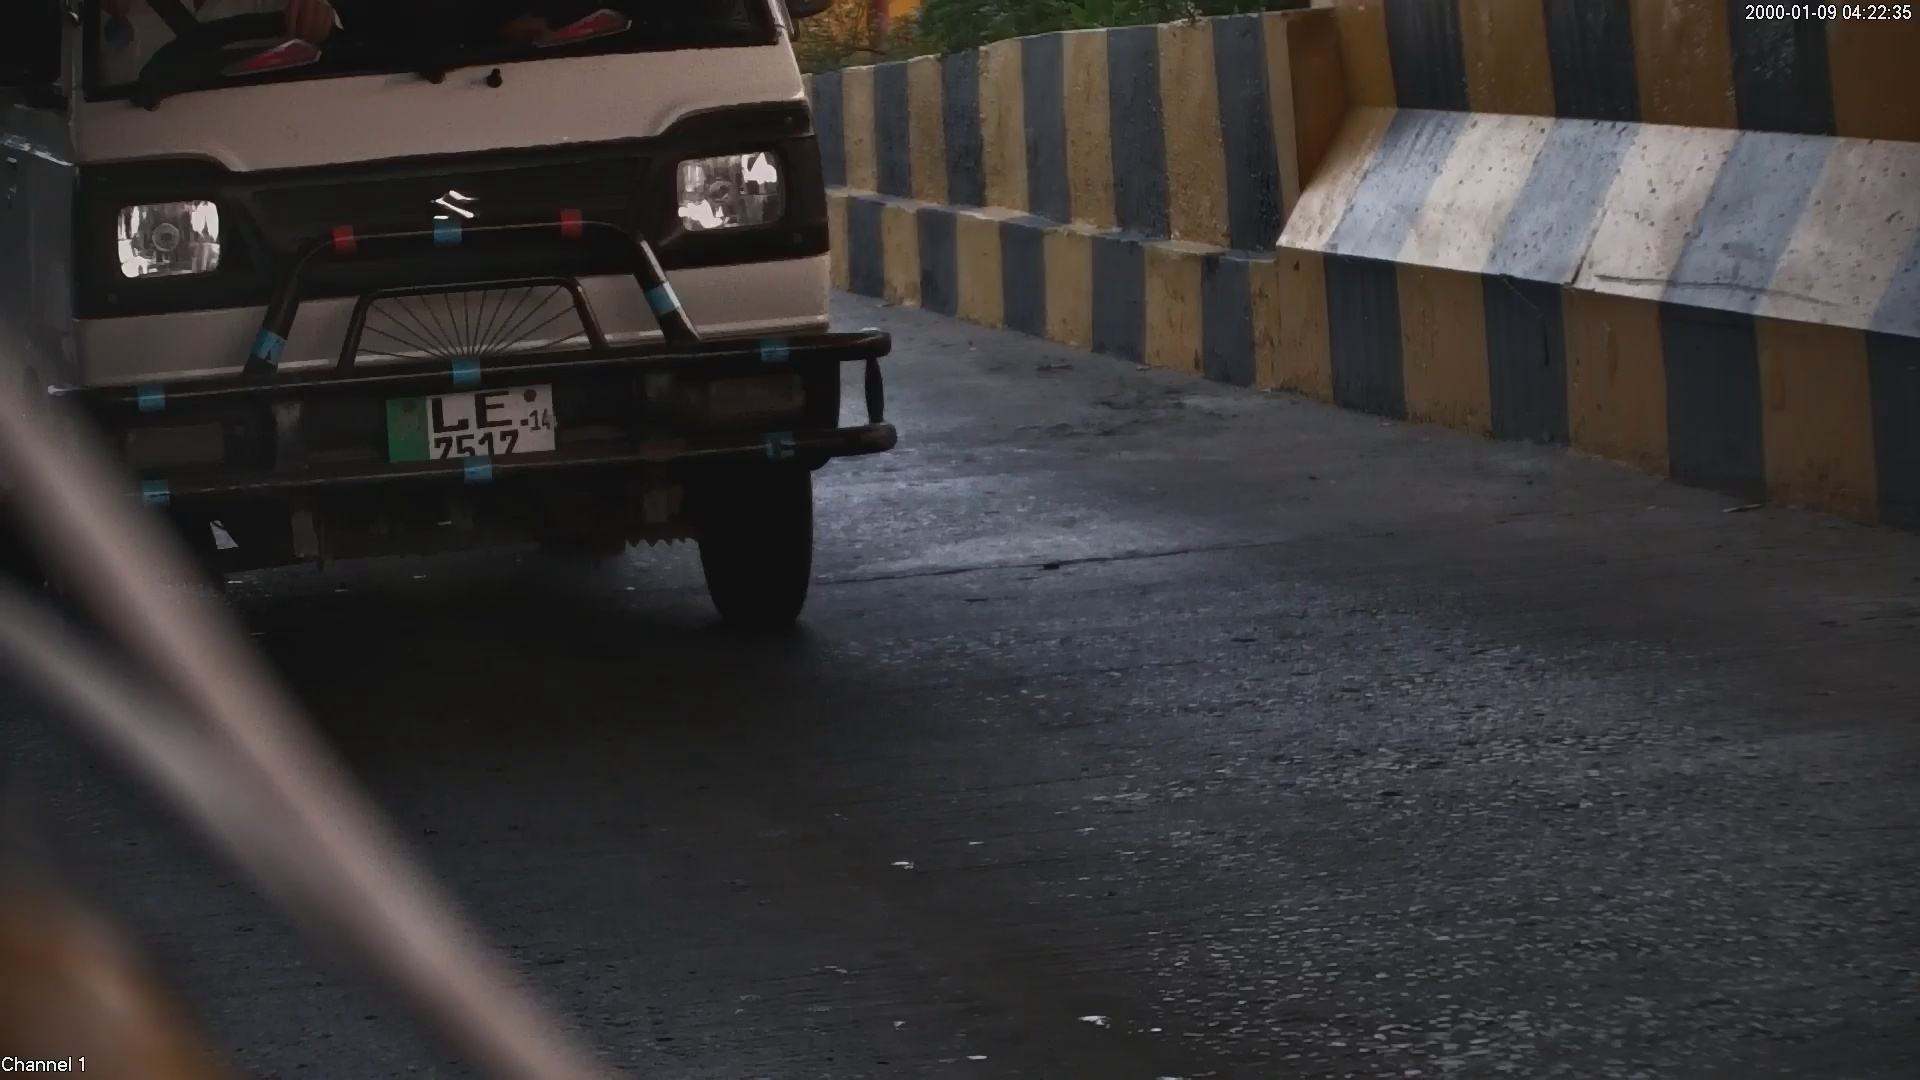Number_Plate: (371, 375, 589, 486)
Undefined: (671, 342, 850, 444), (102, 179, 241, 303), (102, 401, 254, 496), (669, 138, 804, 244), (404, 183, 515, 253)
